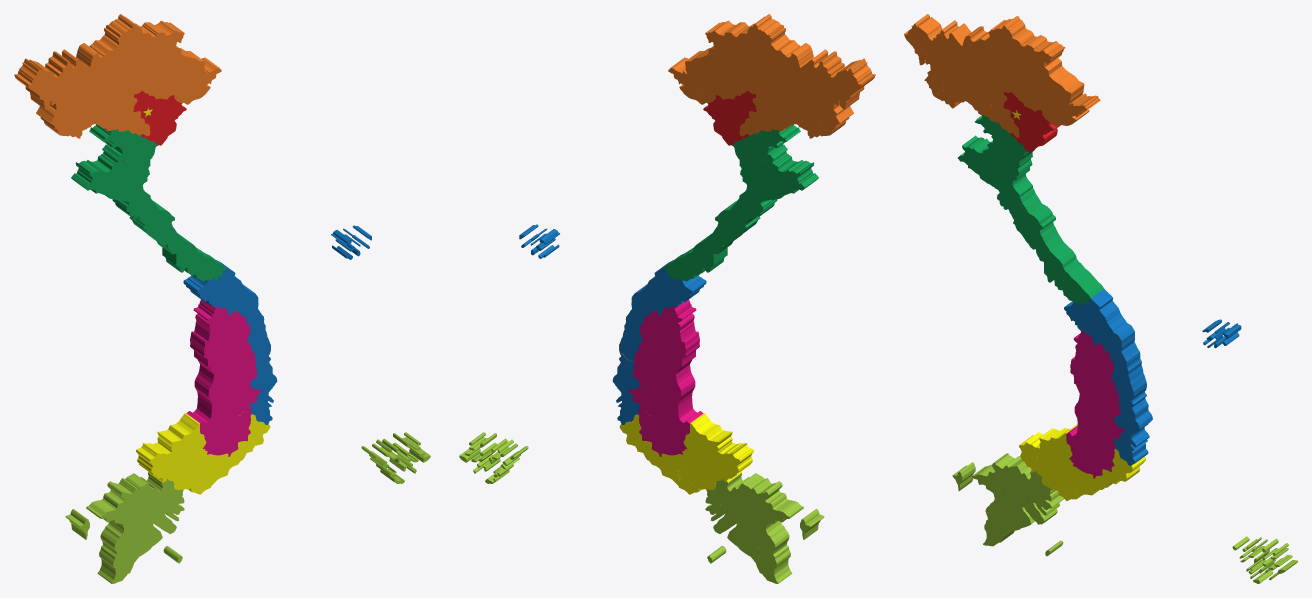
Rendered from Map3d.glb.
The picture shows the model from 3 angles, left to right: view 1: azimuth 30°, elevation 25°; view 2: azimuth 150°, elevation 25°; view 3: azimuth 330°, elevation 25°; orthographic projection. The views are drawn at different scales.
Visible parts, largest first — view 1: Plane; view 2: Plane; view 3: Plane.
Boxes of the visible parts, left/top/right/bottom form: Plane: left=14, top=14, right=430, bottom=583; Plane: left=459, top=14, right=875, bottom=583; Plane: left=904, top=14, right=1297, bottom=583.
Size of the model in its own units: 3.22 by 4.24 by 0.2038.
